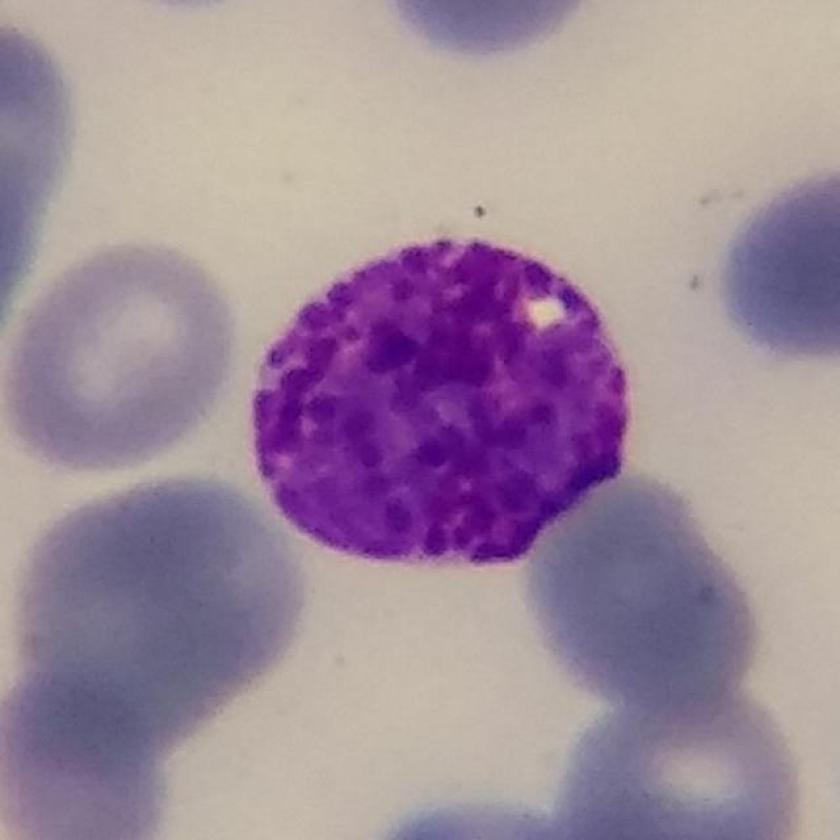basophil: (249, 219, 638, 580)
